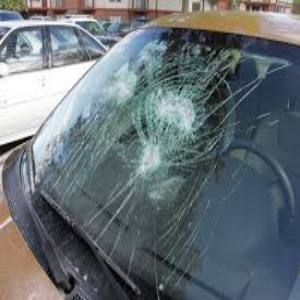front_windshield_glass: (54, 43, 293, 244)
